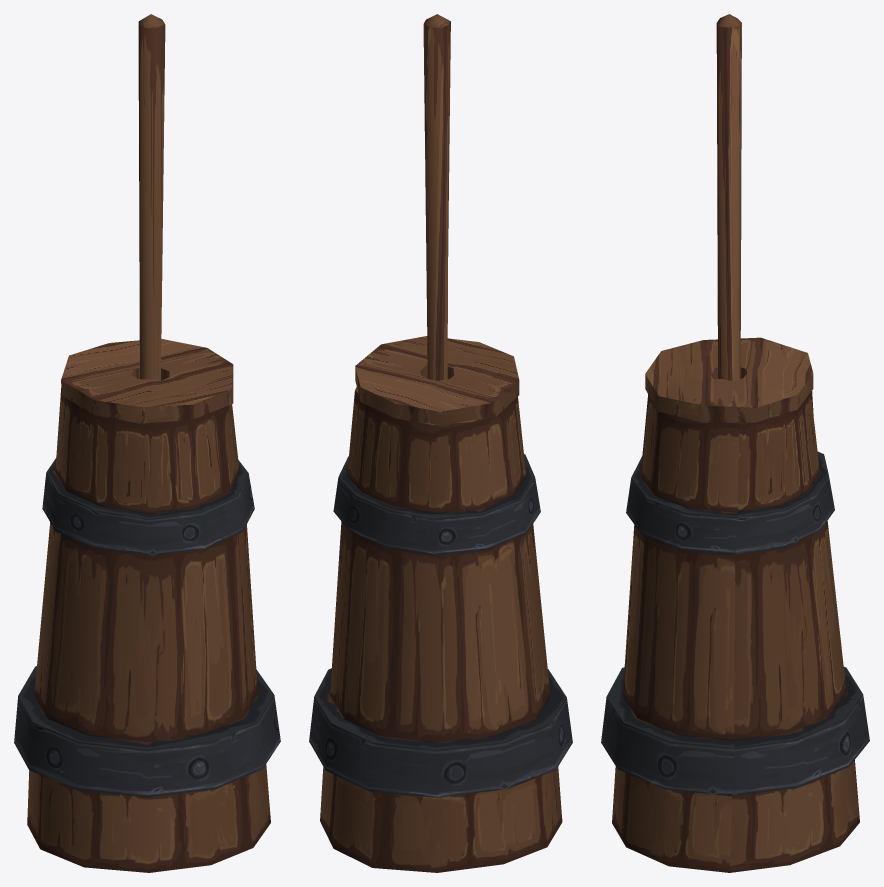
Rendered from SM_PROP_butterchurn_interior.fbx.
3 renders of one model, left to right at view 1: azimuth 30°, elevation 25°; view 2: azimuth 150°, elevation 25°; view 3: azimuth 270°, elevation 25°, orthographic.
Parts seen in each view (by area): view 1: SM_PROP_butterchurn_interior, SM_PROP_butterchurn_lid_interior, SM_PROP_butterchurn_plunger_interior; view 2: SM_PROP_butterchurn_interior, SM_PROP_butterchurn_lid_interior, SM_PROP_butterchurn_plunger_interior; view 3: SM_PROP_butterchurn_interior, SM_PROP_butterchurn_lid_interior, SM_PROP_butterchurn_plunger_interior.
Part boxes in pixels (<box>): SM_PROP_butterchurn_interior: <box>14,388,280,872</box>; SM_PROP_butterchurn_lid_interior: <box>61,339,233,423</box>; SM_PROP_butterchurn_plunger_interior: <box>138,14,165,380</box>; SM_PROP_butterchurn_interior: <box>309,386,572,872</box>; SM_PROP_butterchurn_lid_interior: <box>355,336,519,426</box>; SM_PROP_butterchurn_plunger_interior: <box>423,14,450,380</box>; SM_PROP_butterchurn_interior: <box>601,391,869,872</box>; SM_PROP_butterchurn_lid_interior: <box>645,337,813,422</box>; SM_PROP_butterchurn_plunger_interior: <box>716,14,741,381</box>.
Bounding box in the file's own units: 38.08 × 126 × 38.12.
